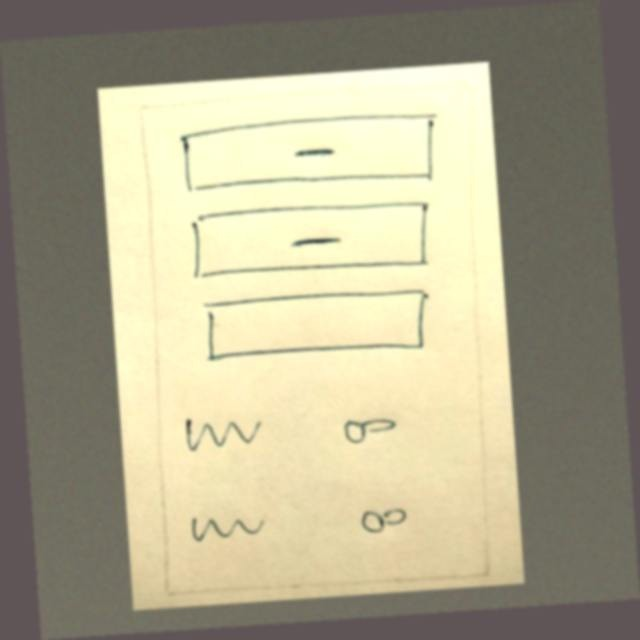button: (173, 104, 443, 203), (179, 193, 439, 294)
switch: (330, 403, 407, 454), (348, 494, 424, 545)
text: (175, 404, 267, 465), (181, 497, 272, 554)
text_input: (196, 281, 436, 371)
